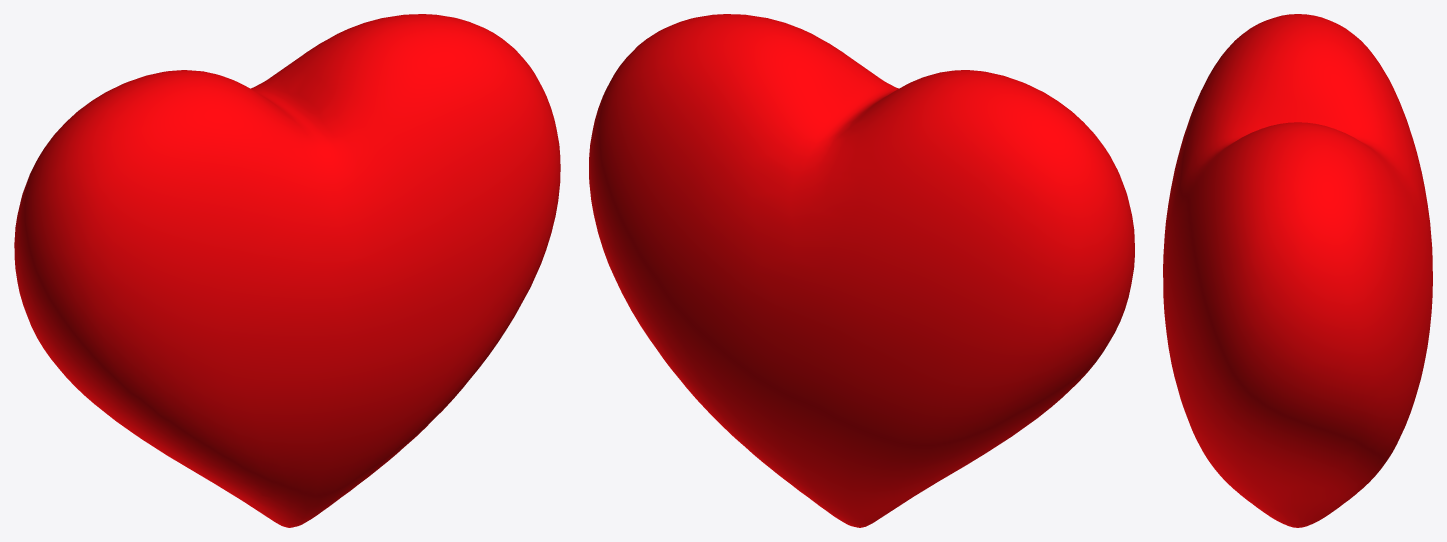
File: heart-23.glb
The picture shows the model from 3 angles, left to right: view 1: azimuth 30°, elevation 25°; view 2: azimuth 150°, elevation 25°; view 3: azimuth 270°, elevation 25°; orthographic projection. The views are drawn at different scales.
Visible parts, largest first — view 1: Cartoon Heart Icon; view 2: Cartoon Heart Icon; view 3: Cartoon Heart Icon.
Boxes of the visible parts, x1,y1,x2,y2 form: Cartoon Heart Icon: (14, 14, 560, 527); Cartoon Heart Icon: (589, 14, 1134, 527); Cartoon Heart Icon: (1163, 14, 1432, 527).
Size of the model in its own units: 0.8329 by 0.7286 by 0.4015.
